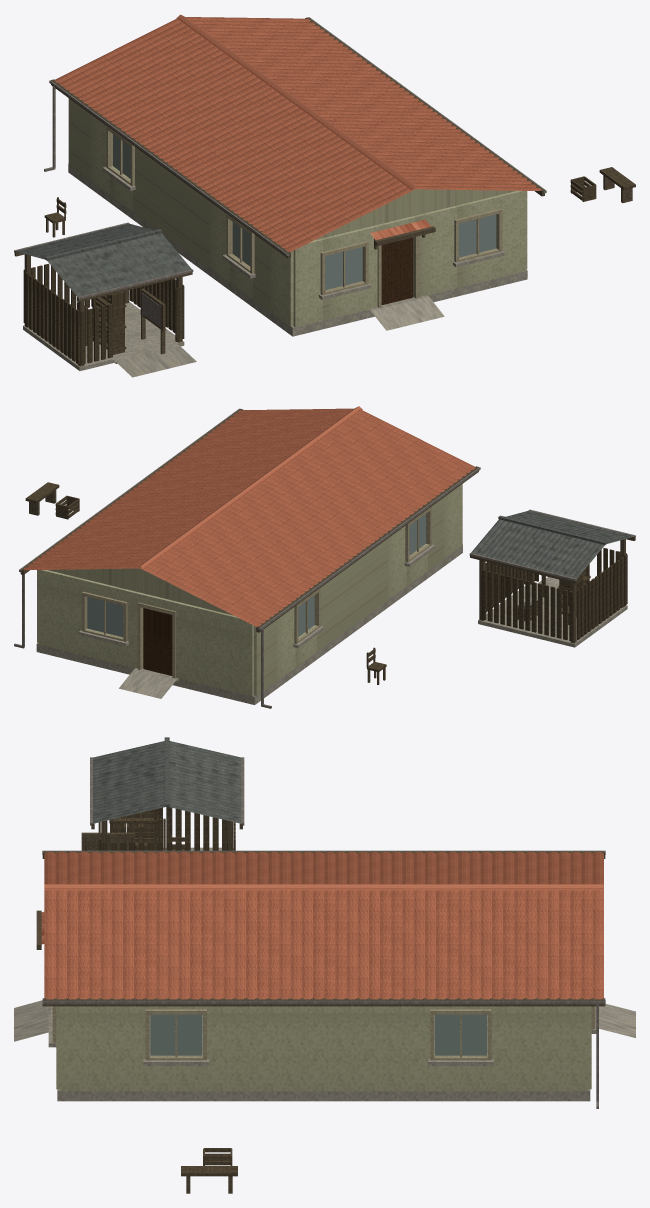
3 renders of one model, top to bottom at view 1: azimuth 30°, elevation 25°; view 2: azimuth 150°, elevation 25°; view 3: azimuth 270°, elevation 25°, orthographic. The views are drawn at different scales.
Parts seen in each view (by area): view 1: H33_TELHAS, H33_LATERAIS, H33_FACHADA, H33_DEPOSITO_RIPAS, H33_DEPOSITO_COBERTURA, H33_VIDROS_RECUADOS, H33_FUNDACAO, H33_CAIXILHOS, H33_OITOES, H33_DEPOSITO_BASE, H33_CUMEEIRA, H33_PORTA_FOLHA (+11 smaller); view 2: H33_TELHAS, H33_FUNDOS, H33_LATERAIS, H33_DEPOSITO_RIPAS, H33_DEPOSITO_COBERTURA, H33_FUNDACAO, H33_OITOES, H33_VIDROS_RECUADOS, H33_CAIXILHOS, H33_SERVICO_PORTA_FOLHA, H33_CUMEEIRA, H33_DEPOSITO_BASE (+9 smaller); view 3: H33_TELHAS, H33_LATERAIS, H33_DEPOSITO_COBERTURA, H33_FUNDACAO, H33_VIDROS_RECUADOS, H33_CALHA, H33_BEIRAIS, H33_CUMEEIRA, H33_CAIXILHOS, H33_DEPOSITO_RIPAS, H33_RAMPA, H33_PEITORIS (+3 smaller).
Boxes of the visible parts, x1,y1,x2,y2 form: H33_TELHAS: (55, 17, 540, 251); H33_LATERAIS: (68, 98, 527, 326); H33_FACHADA: (293, 190, 525, 327); H33_DEPOSITO_RIPAS: (23, 263, 184, 364); H33_DEPOSITO_COBERTURA: (15, 223, 191, 296); H33_VIDROS_RECUADOS: (113, 134, 496, 289); H33_FUNDACAO: (68, 163, 527, 336); H33_CAIXILHOS: (106, 126, 502, 295); H33_OITOES: (315, 189, 516, 239); H33_DEPOSITO_BASE: (23, 302, 184, 370); H33_CUMEEIRA: (176, 14, 418, 190); H33_PORTA_FOLHA: (381, 237, 412, 304); H33_TELHAS: (24, 408, 475, 626); H33_FUNDOS: (38, 570, 253, 696); H33_LATERAIS: (37, 484, 462, 695); H33_DEPOSITO_RIPAS: (481, 548, 627, 641); H33_DEPOSITO_COBERTURA: (471, 510, 634, 578); H33_FUNDACAO: (36, 544, 462, 704); H33_OITOES: (48, 568, 233, 615); H33_VIDROS_RECUADOS: (87, 514, 425, 637); H33_CAIXILHOS: (81, 506, 431, 643); H33_SERVICO_PORTA_FOLHA: (143, 608, 172, 675); H33_CUMEEIRA: (138, 406, 362, 569); H33_DEPOSITO_BASE: (478, 583, 627, 647); H33_TELHAS: (44, 852, 603, 999); H33_LATERAIS: (60, 1006, 587, 1091); H33_DEPOSITO_COBERTURA: (93, 741, 241, 823); H33_FUNDACAO: (57, 1014, 590, 1101); H33_VIDROS_RECUADOS: (150, 1014, 486, 1055); H33_CALHA: (42, 850, 605, 1004); H33_BEIRAIS: (42, 851, 605, 1006); H33_CUMEEIRA: (44, 884, 603, 890); H33_CAIXILHOS: (52, 1006, 595, 1060); H33_DEPOSITO_RIPAS: (98, 807, 235, 850); H33_RAMPA: (14, 1000, 50, 1041); H33_PEITORIS: (48, 1006, 596, 1065).
Bounding box in the file's own units: 19.38 × 3.89 × 14.75.
12 materials, 9 textured.
